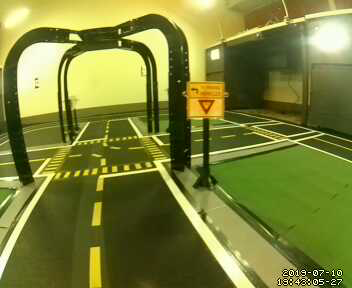Turn Yield: (187, 82, 225, 117)
